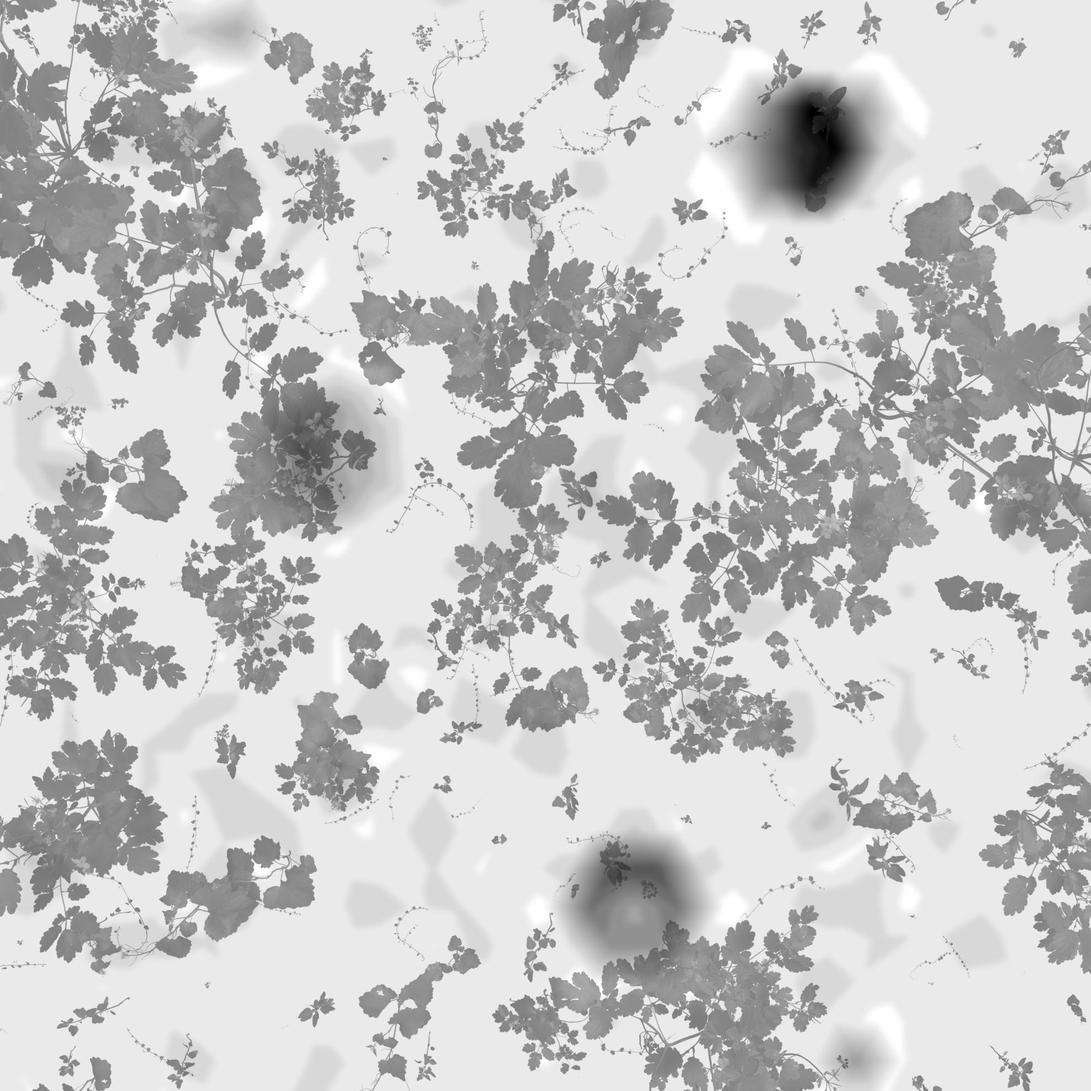landmine: (543, 807, 718, 973), (232, 370, 401, 534), (729, 60, 885, 223)
